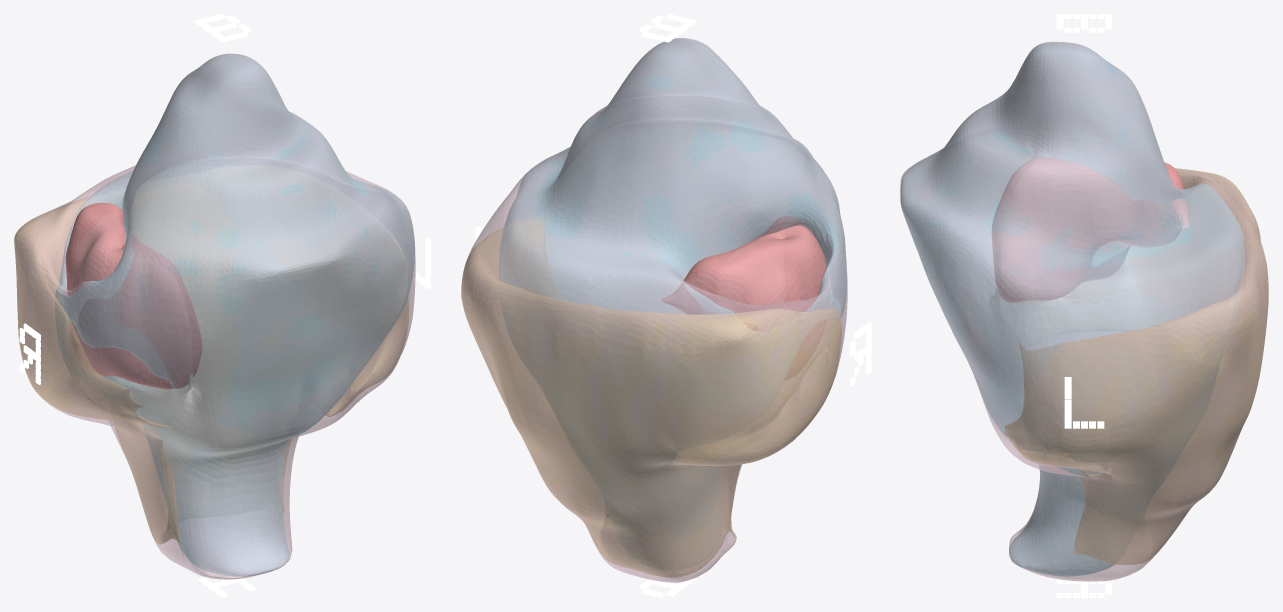
The picture shows the model from 3 angles, left to right: view 1: azimuth 30°, elevation 25°; view 2: azimuth 150°, elevation 25°; view 3: azimuth 270°, elevation 25°; orthographic projection.
Parts seen in each view (by area): view 1: prostate_gland, transition_zone, peripheral_zone, lesion_01, pv_ar_marker_B, pv_ar_marker_R, pv_ar_marker_A; view 2: prostate_gland, peripheral_zone, transition_zone, lesion_01, pv_ar_marker_B, pv_ar_marker_R, pv_ar_marker_A; view 3: prostate_gland, transition_zone, peripheral_zone, lesion_01, pv_ar_marker_B, pv_ar_marker_L, pv_ar_marker_A.
Boxes of the visible parts, x1,y1,x2,y2 form: prostate_gland: (14, 53, 415, 579); transition_zone: (55, 54, 414, 576); peripheral_zone: (14, 197, 408, 576); lesion_01: (65, 202, 201, 389); pv_ar_marker_B: (194, 14, 251, 42); pv_ar_marker_R: (19, 323, 40, 384); pv_ar_marker_A: (198, 572, 255, 597); prostate_gland: (461, 38, 847, 582); peripheral_zone: (461, 206, 841, 577); transition_zone: (499, 38, 846, 499); lesion_01: (662, 215, 829, 379); pv_ar_marker_B: (639, 14, 695, 42); pv_ar_marker_R: (850, 321, 871, 385); pv_ar_marker_A: (639, 575, 695, 597); prostate_gland: (900, 41, 1268, 581); transition_zone: (900, 42, 1244, 576); peripheral_zone: (1004, 169, 1268, 564); lesion_01: (992, 156, 1188, 302); pv_ar_marker_B: (1056, 14, 1112, 32); pv_ar_marker_L: (1064, 377, 1104, 428); pv_ar_marker_A: (1056, 579, 1112, 597).
Size of the model in its own units: 0.046 by 0.0625 by 0.0368.
